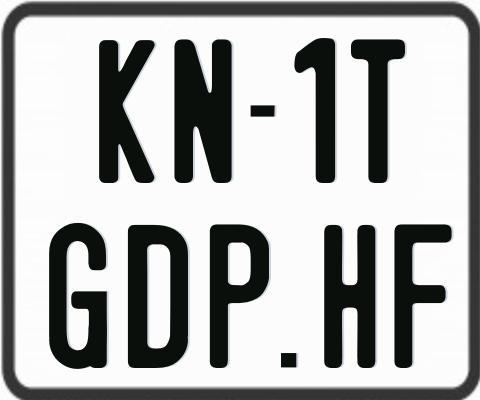1: (292, 35, 338, 184)
D: (126, 222, 187, 371)
F: (394, 224, 452, 374)
G: (49, 220, 113, 368)
H: (324, 225, 380, 374)
K: (98, 40, 155, 183)
N: (174, 37, 236, 182)
P: (208, 224, 268, 370)
T: (351, 38, 411, 183)
